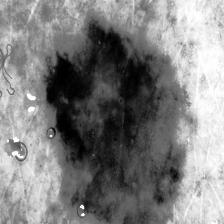Benign Marking or Mole: (40, 20, 186, 224)
